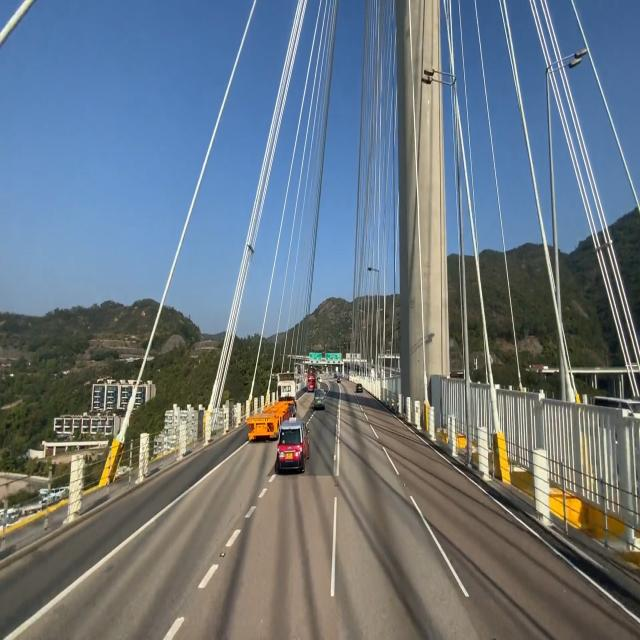Car: (246, 370, 298, 440), (274, 421, 314, 476), (311, 383, 330, 414)
